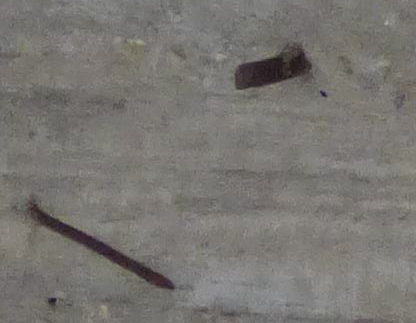Exposed reinforcement: (30, 206, 176, 291), (234, 50, 313, 90)
